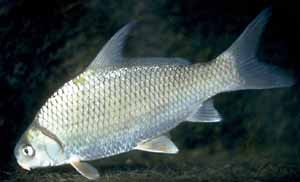fish: (9, 12, 299, 180)
